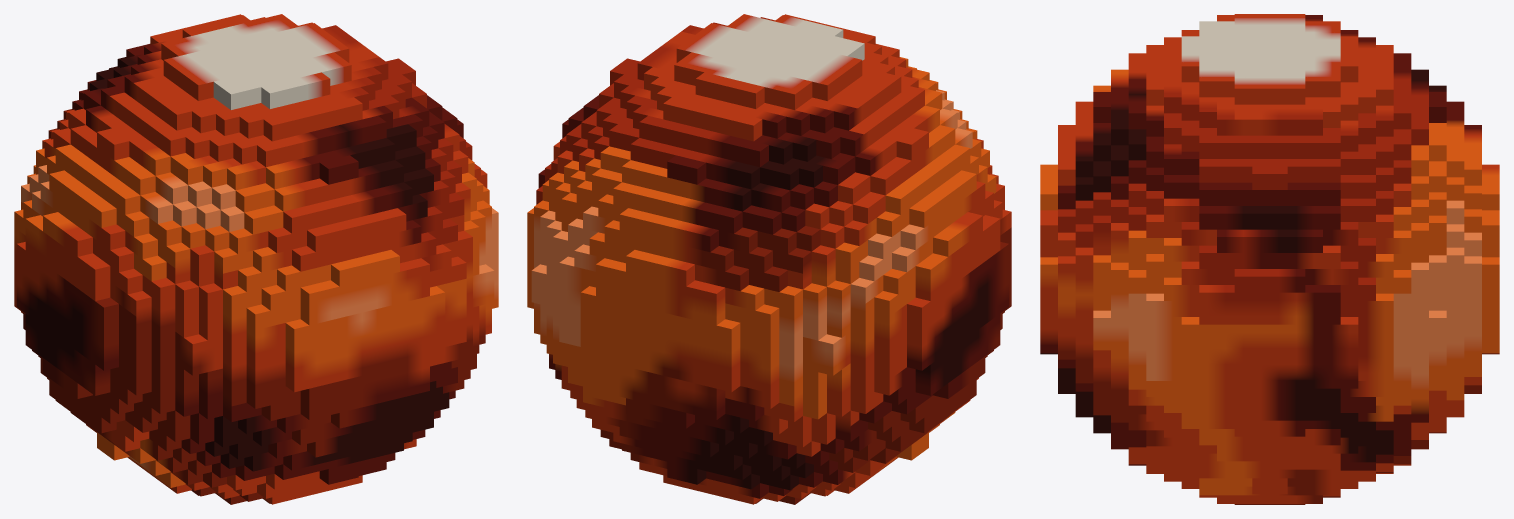
File: Mars.fbx
3 renders of one model, left to right at view 1: azimuth 30°, elevation 25°; view 2: azimuth 150°, elevation 25°; view 3: azimuth 270°, elevation 25°, orthographic.
Parts seen in each view (by area): view 1: Mars; view 2: Mars; view 3: Mars.
Boxes of the visible parts, box(x1,y1,x2,y2) form: Mars: box(14, 14, 498, 504); Mars: box(527, 14, 1011, 504); Mars: box(1040, 14, 1499, 504).
Size of the model in its own units: 26 by 26 by 26.
1 material, 1 textured.
